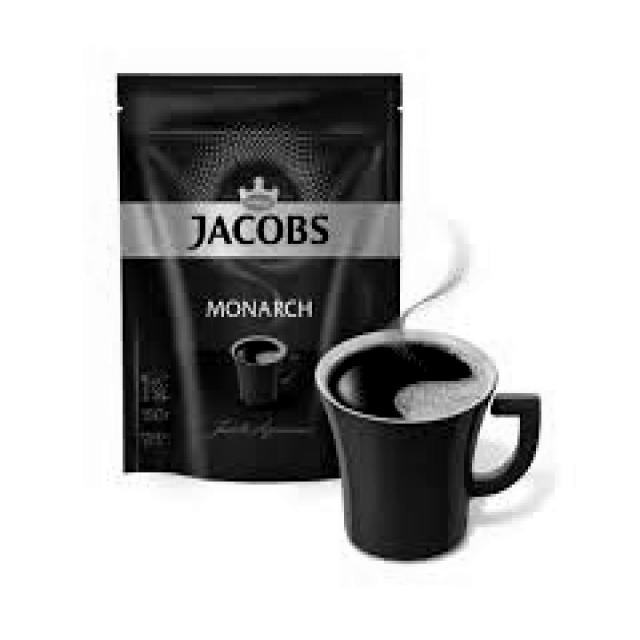jacobs: (121, 178, 401, 262)
